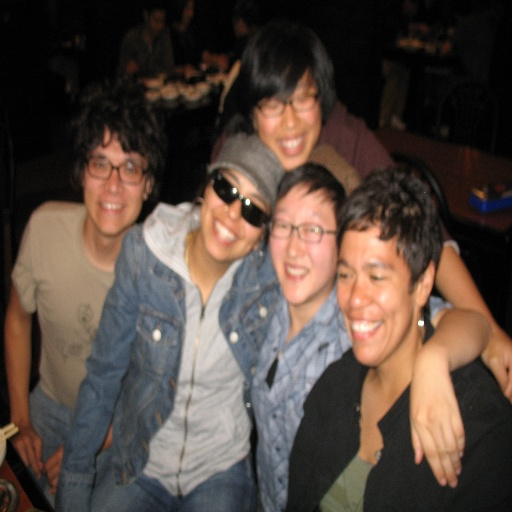hand: (416, 289, 479, 476), (481, 326, 511, 401), (9, 424, 43, 485), (44, 449, 64, 497)
